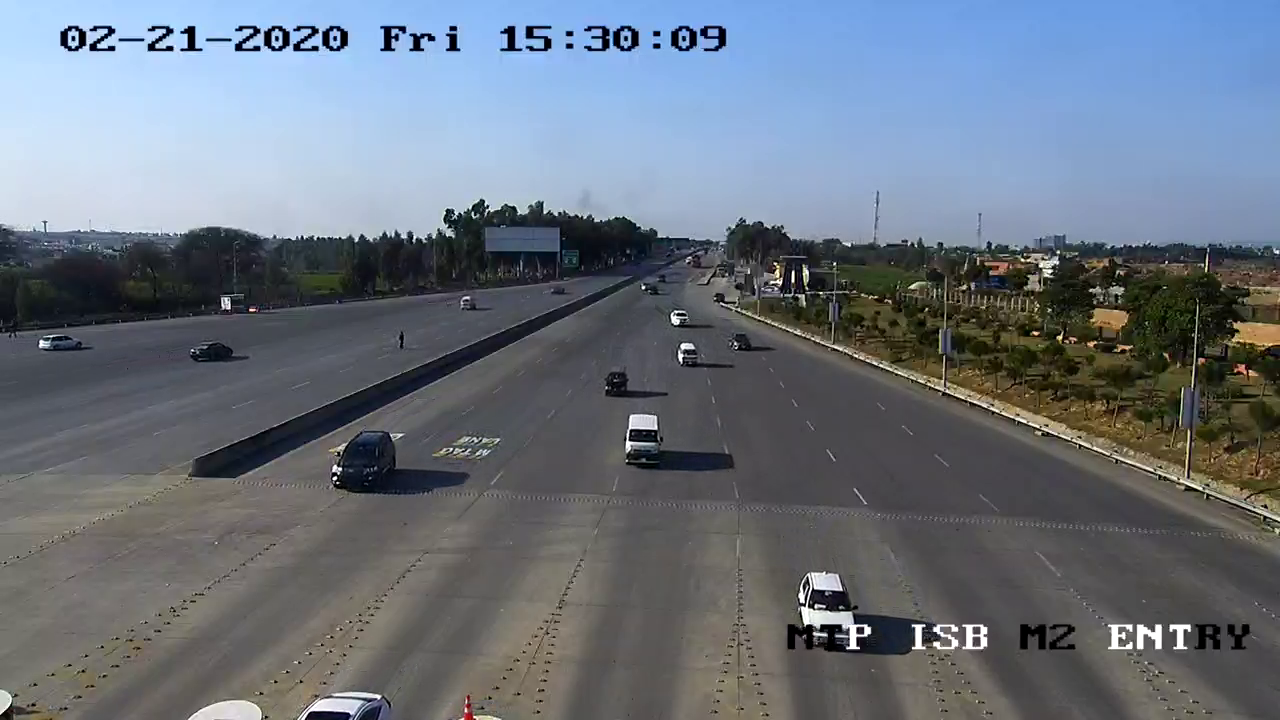f1: (319, 424, 406, 498), (623, 408, 667, 469)
